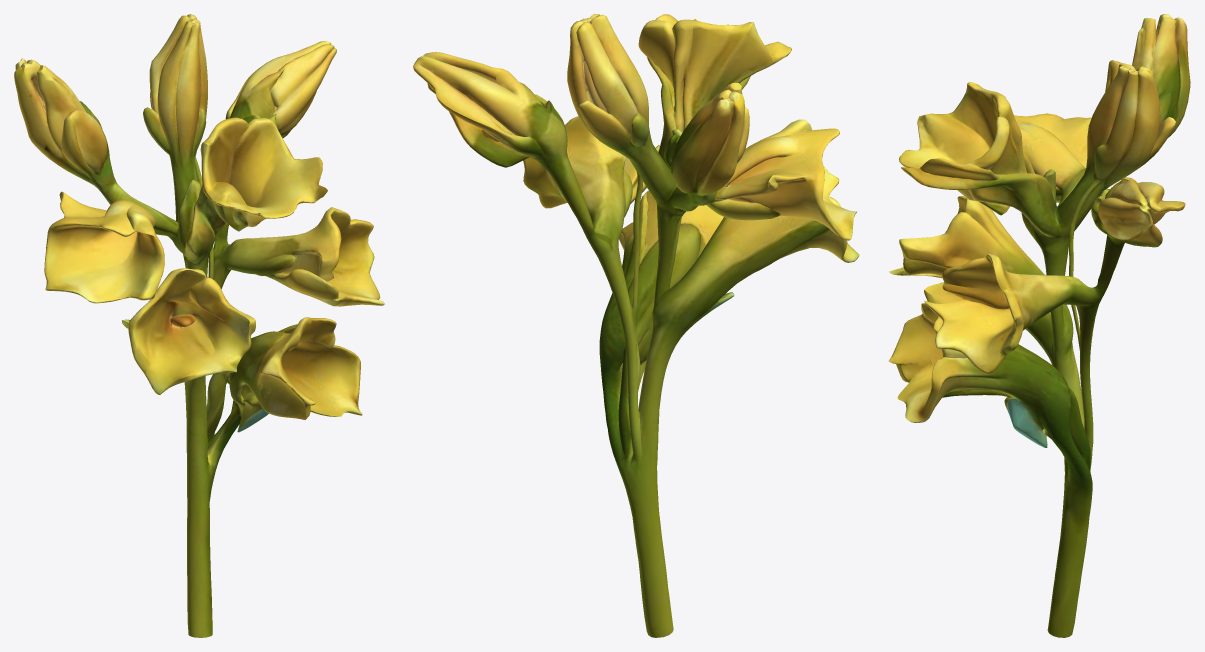
File: freesia.glb
The picture shows the model from 3 angles, left to right: view 1: azimuth 30°, elevation 25°; view 2: azimuth 150°, elevation 25°; view 3: azimuth 270°, elevation 25°; orthographic projection. The views are drawn at different scales.
Visible parts, largest first — view 1: model; view 2: model; view 3: model.
Boxes of the visible parts, box(x1,y1,x2,y2) form: model: box(14, 14, 384, 637); model: box(413, 14, 859, 637); model: box(888, 14, 1190, 637).
Bounding box in the file's own units: 1.17 × 1.9 × 0.8954.
Materials: 1 (1 with a texture image).
